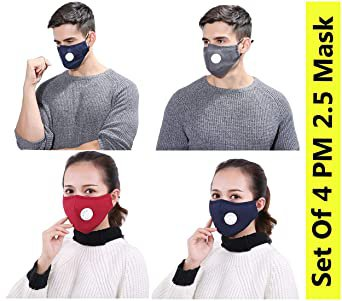mask: (57, 153, 127, 233), (193, 2, 256, 78), (205, 160, 265, 234), (44, 3, 101, 72)
